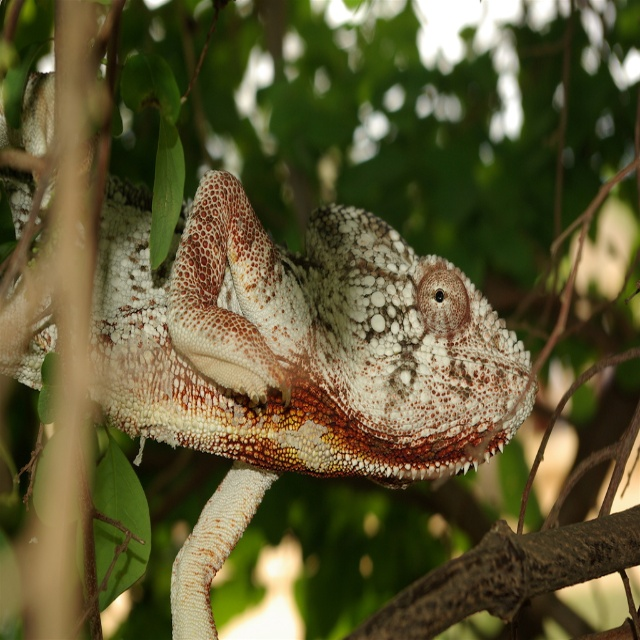Lizard: (0, 71, 539, 640)
